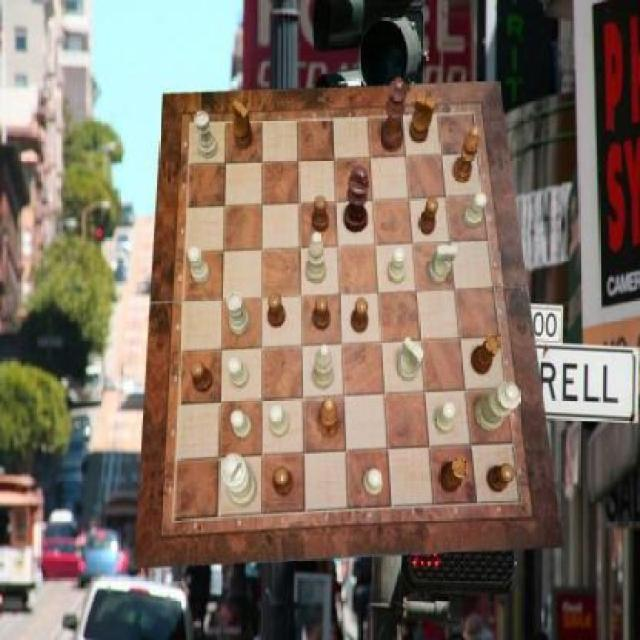bishop: (452, 125, 480, 182), (317, 397, 339, 438)
black-bishop: (344, 166, 370, 234)
black-king: (411, 94, 437, 143), (232, 100, 253, 151)
black-knight: (420, 197, 440, 235), (191, 361, 214, 394), (488, 465, 515, 492), (312, 196, 330, 232), (351, 298, 368, 334), (268, 292, 285, 327), (314, 295, 331, 330), (274, 468, 294, 497)
black-pawn: (380, 77, 407, 153)
black-queen: (471, 334, 501, 375), (438, 455, 468, 493)
black-rook: (306, 232, 326, 285), (312, 345, 335, 390)
white-bishop: (221, 454, 257, 508)
white-king: (397, 337, 424, 381), (428, 246, 458, 285)
white-knight: (463, 192, 487, 228), (188, 246, 210, 284), (436, 401, 456, 434), (269, 405, 289, 437), (228, 357, 248, 389), (388, 248, 405, 284), (230, 411, 252, 438), (363, 469, 383, 497)
white-pawn: (476, 382, 522, 432)
white-queen: (194, 112, 218, 160), (228, 292, 250, 336)
